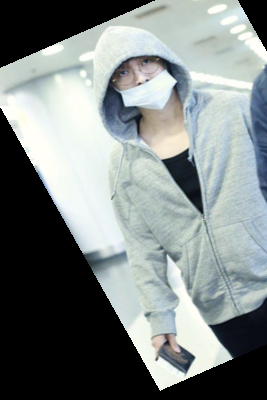mask_weared_incorrect: (82, 32, 201, 118)
